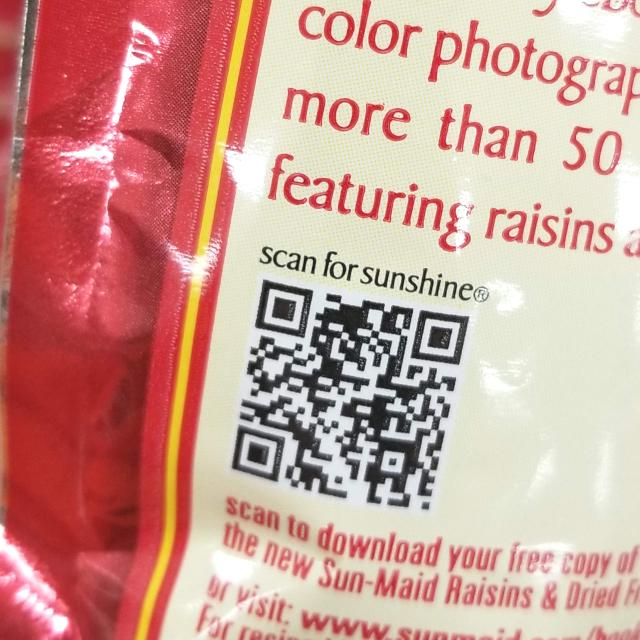QRCode: (221, 260, 477, 527)
